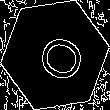O_W: (25, 25, 85, 85)
